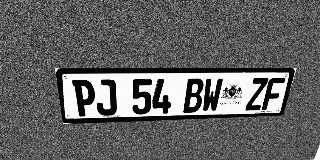4: (152, 79, 172, 114)
5: (132, 79, 152, 115)
B: (183, 78, 205, 113)
F: (261, 78, 286, 110)
J: (95, 79, 117, 116)
P: (72, 79, 96, 117)
W: (201, 78, 223, 112)
Z: (245, 78, 269, 111)
